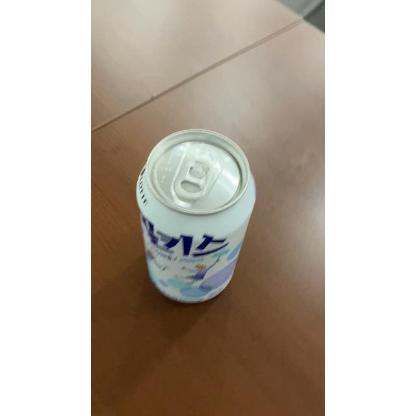Can: (134, 127, 258, 304)
